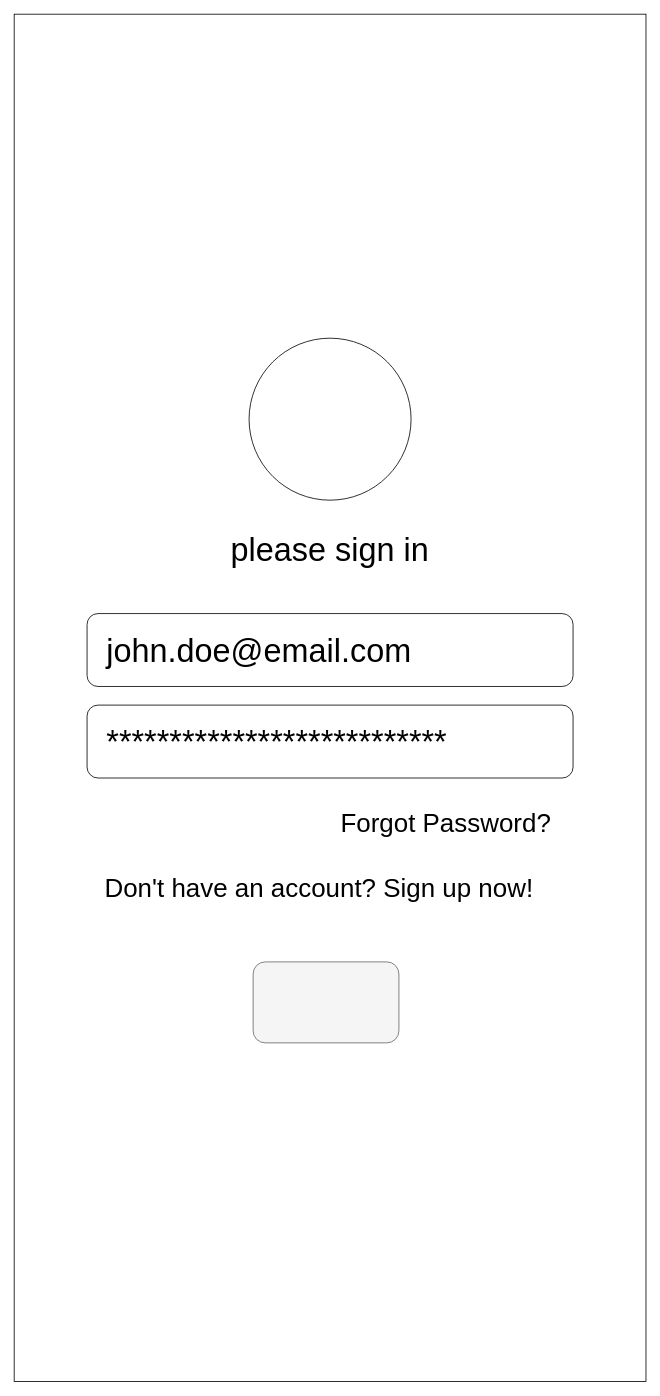
Image size: 660x1396. Some labels were removed from this diagram. The centre of each missing label's shape, as x and y in pixels:
LOGO: [329,418]
SIGN IN: [325,1002]
